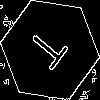T: (25, 25, 76, 77)
